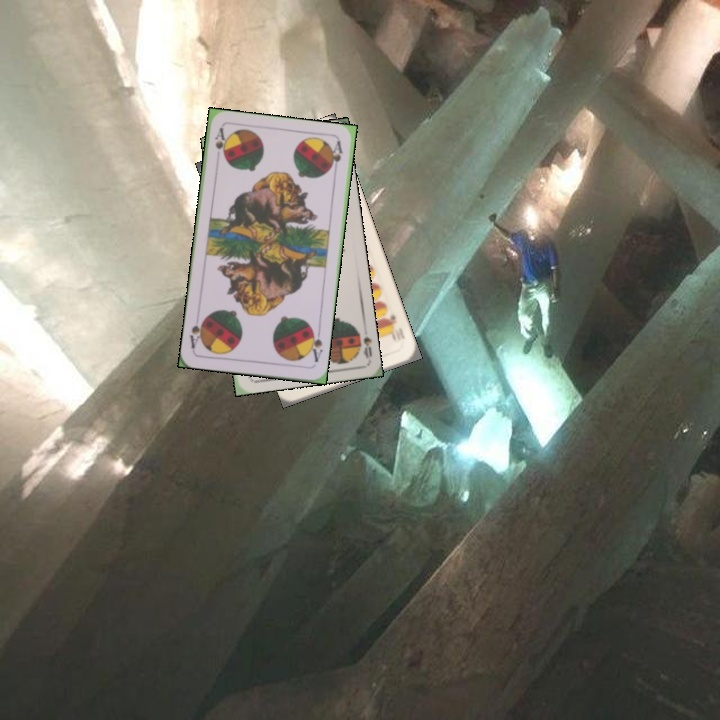E10: (382, 310, 407, 343)
SA: (305, 325, 325, 365), (211, 124, 229, 160)
SO: (352, 322, 375, 361)
